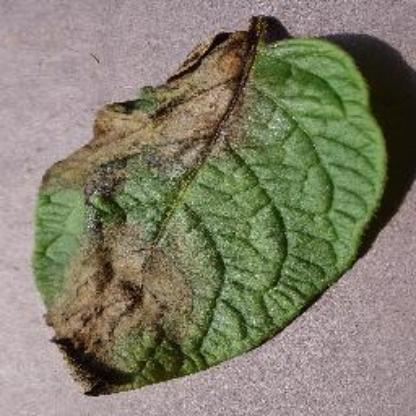Late-Blight: (28, 4, 392, 396)
